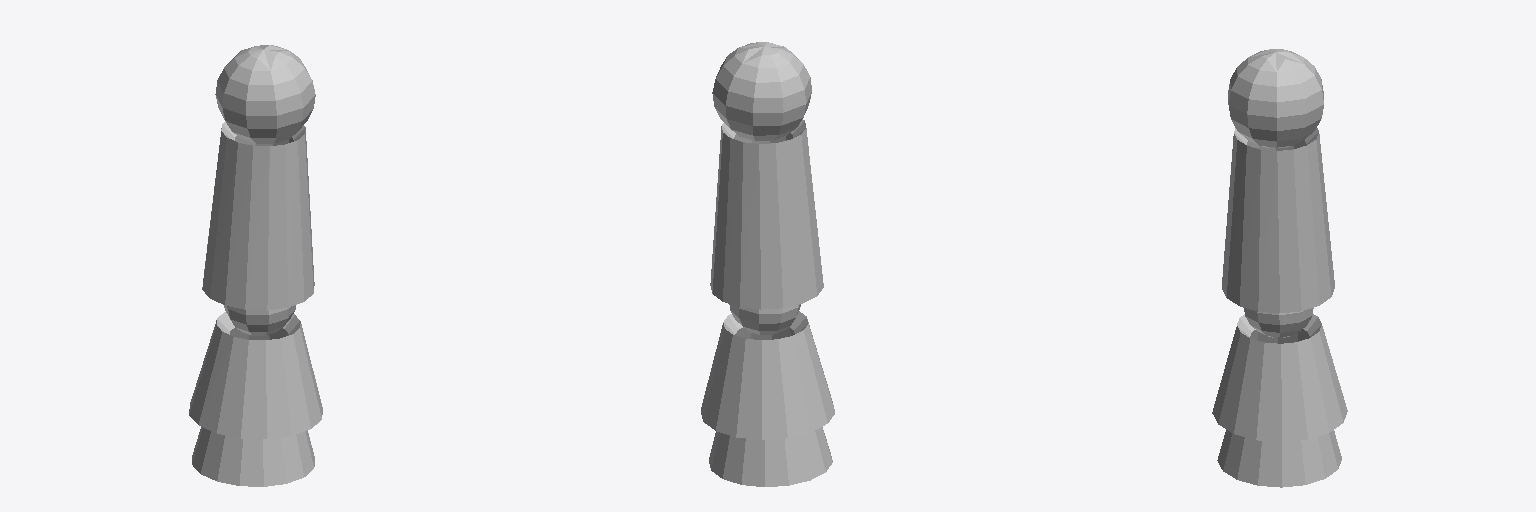
Rendered from med_left_arm.obj.
3 renders of one model, left to right at view 1: azimuth 30°, elevation 25°; view 2: azimuth 150°, elevation 25°; view 3: azimuth 270°, elevation 25°, orthographic.
Visible parts, largest first — view 1: polySurface23; view 2: polySurface23; view 3: polySurface23.
Part boxes in pixels (bbox=[...]): polySurface23: bbox=[189, 45, 322, 486]; polySurface23: bbox=[701, 42, 834, 486]; polySurface23: bbox=[1212, 49, 1347, 487].
Size of the model in its own units: 2.05 by 6.88 by 2.05.